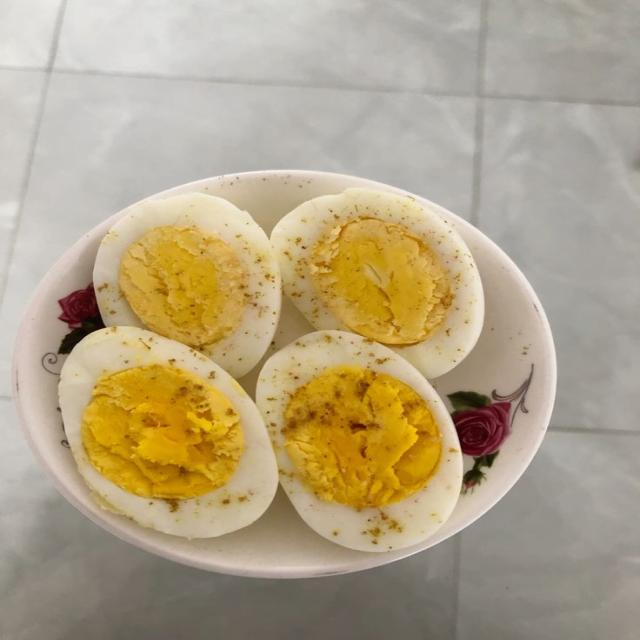egg boiled: (60, 327, 278, 537), (256, 331, 462, 551), (271, 188, 484, 377), (94, 193, 280, 377)
